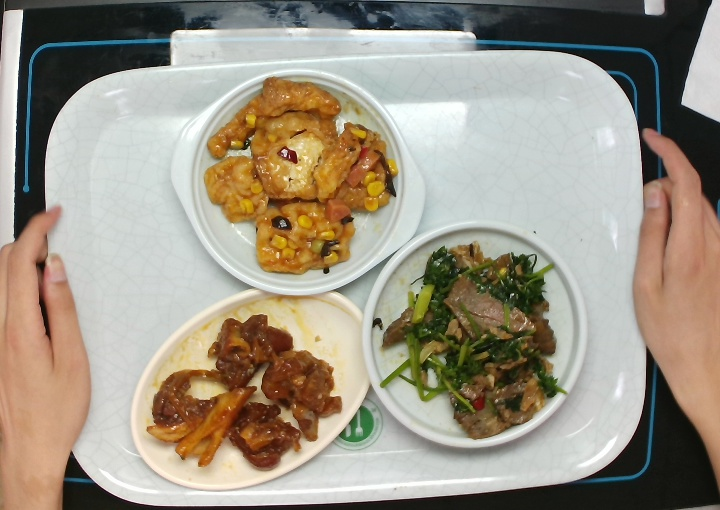JYsf-Shuang_Er_Pan: (165, 63, 428, 295)
JYsf-Tuo_Yuan_Wan: (125, 283, 376, 496)
JYsf-Xiao_Yuan_Pan: (360, 212, 597, 454)
